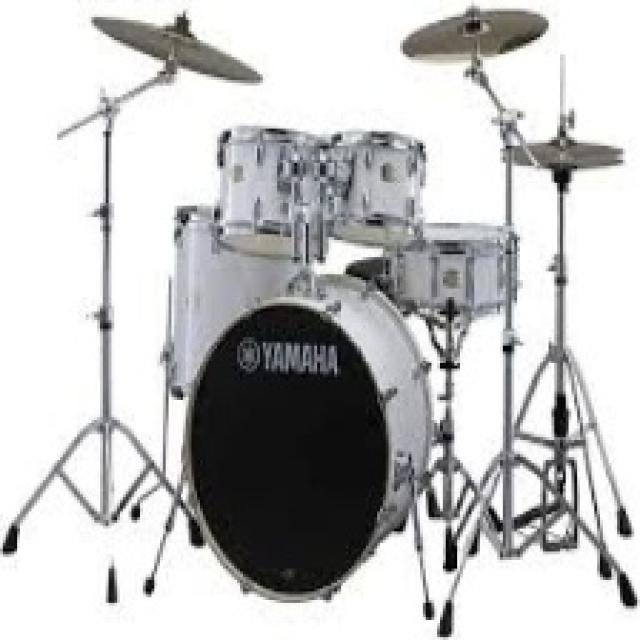drums: (56, 7, 632, 606)
